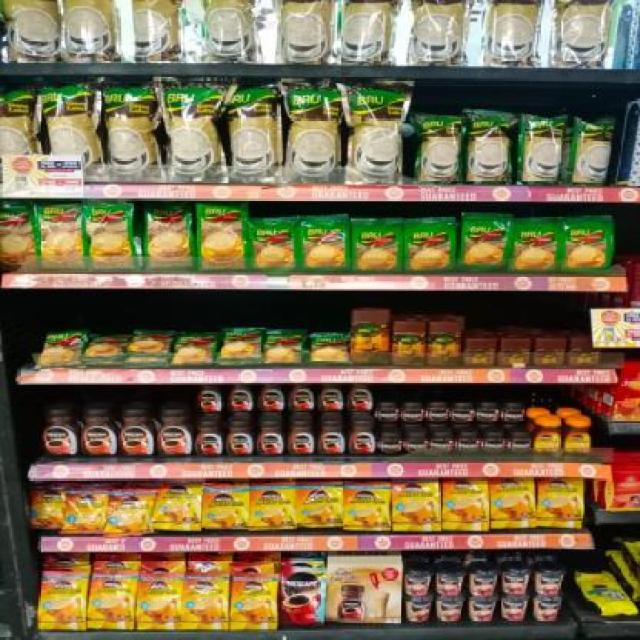Coffee: (39, 570, 86, 630), (88, 570, 135, 628), (136, 573, 182, 630), (182, 574, 228, 630), (231, 575, 277, 630), (392, 479, 439, 530), (279, 574, 324, 626), (443, 479, 488, 530), (155, 482, 199, 532), (490, 480, 534, 529), (252, 483, 297, 528), (345, 482, 387, 530), (540, 479, 582, 526), (205, 485, 249, 529), (155, 408, 193, 458), (300, 482, 343, 526), (45, 408, 81, 458), (110, 490, 150, 534), (84, 408, 118, 457), (122, 408, 156, 455), (68, 490, 106, 532), (33, 491, 65, 531), (195, 418, 228, 456), (284, 420, 316, 455), (318, 420, 348, 454), (228, 419, 255, 455), (258, 420, 285, 454), (351, 420, 377, 455), (564, 419, 590, 453), (536, 420, 562, 454), (228, 384, 254, 410), (261, 384, 284, 411), (348, 386, 372, 411), (507, 431, 533, 454), (320, 384, 342, 411), (291, 385, 314, 410), (200, 386, 222, 412), (400, 402, 425, 424), (481, 431, 507, 452), (426, 402, 451, 423), (502, 402, 526, 423), (379, 432, 403, 453), (405, 432, 429, 453), (449, 403, 474, 422), (429, 432, 454, 451), (456, 432, 479, 452), (477, 402, 498, 423), (377, 402, 398, 422)
